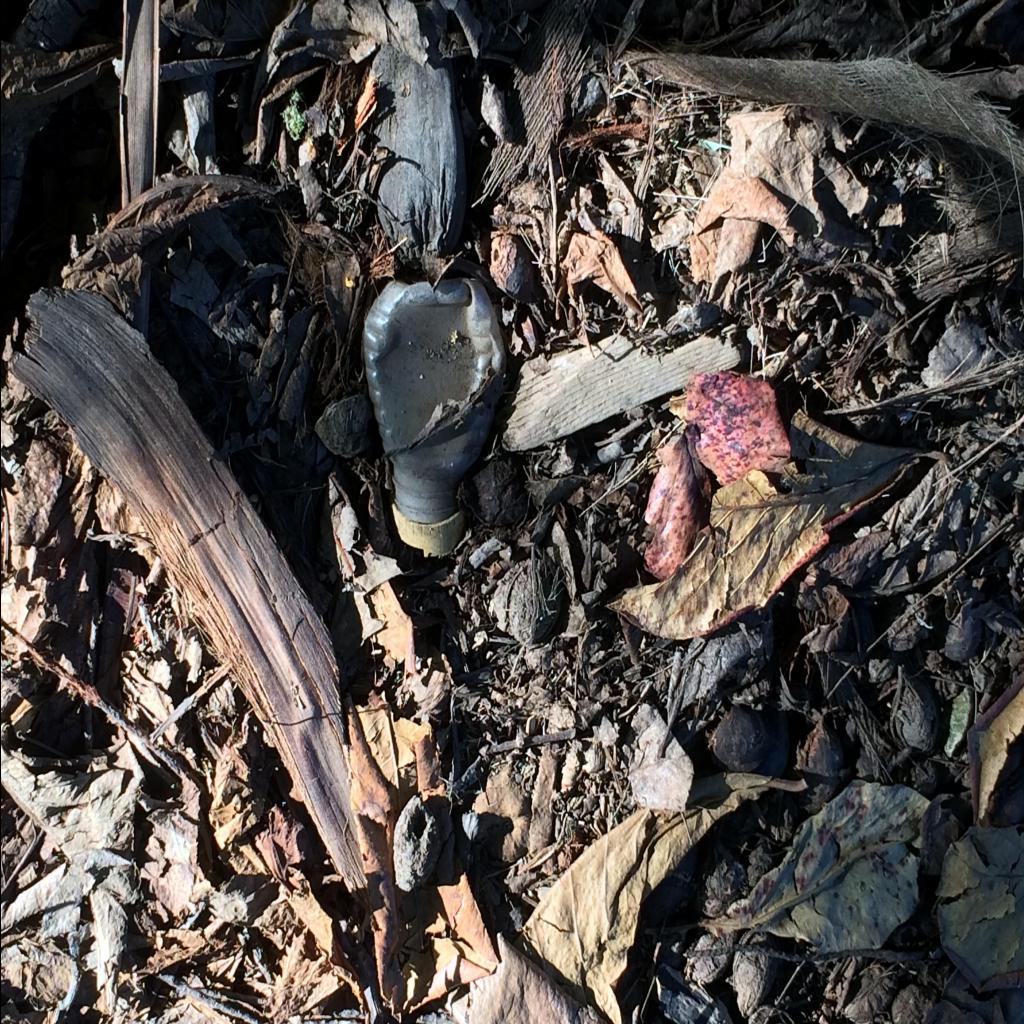Other plastic container: (363, 278, 505, 558)
Plastic bottle cap: (388, 498, 462, 558)
